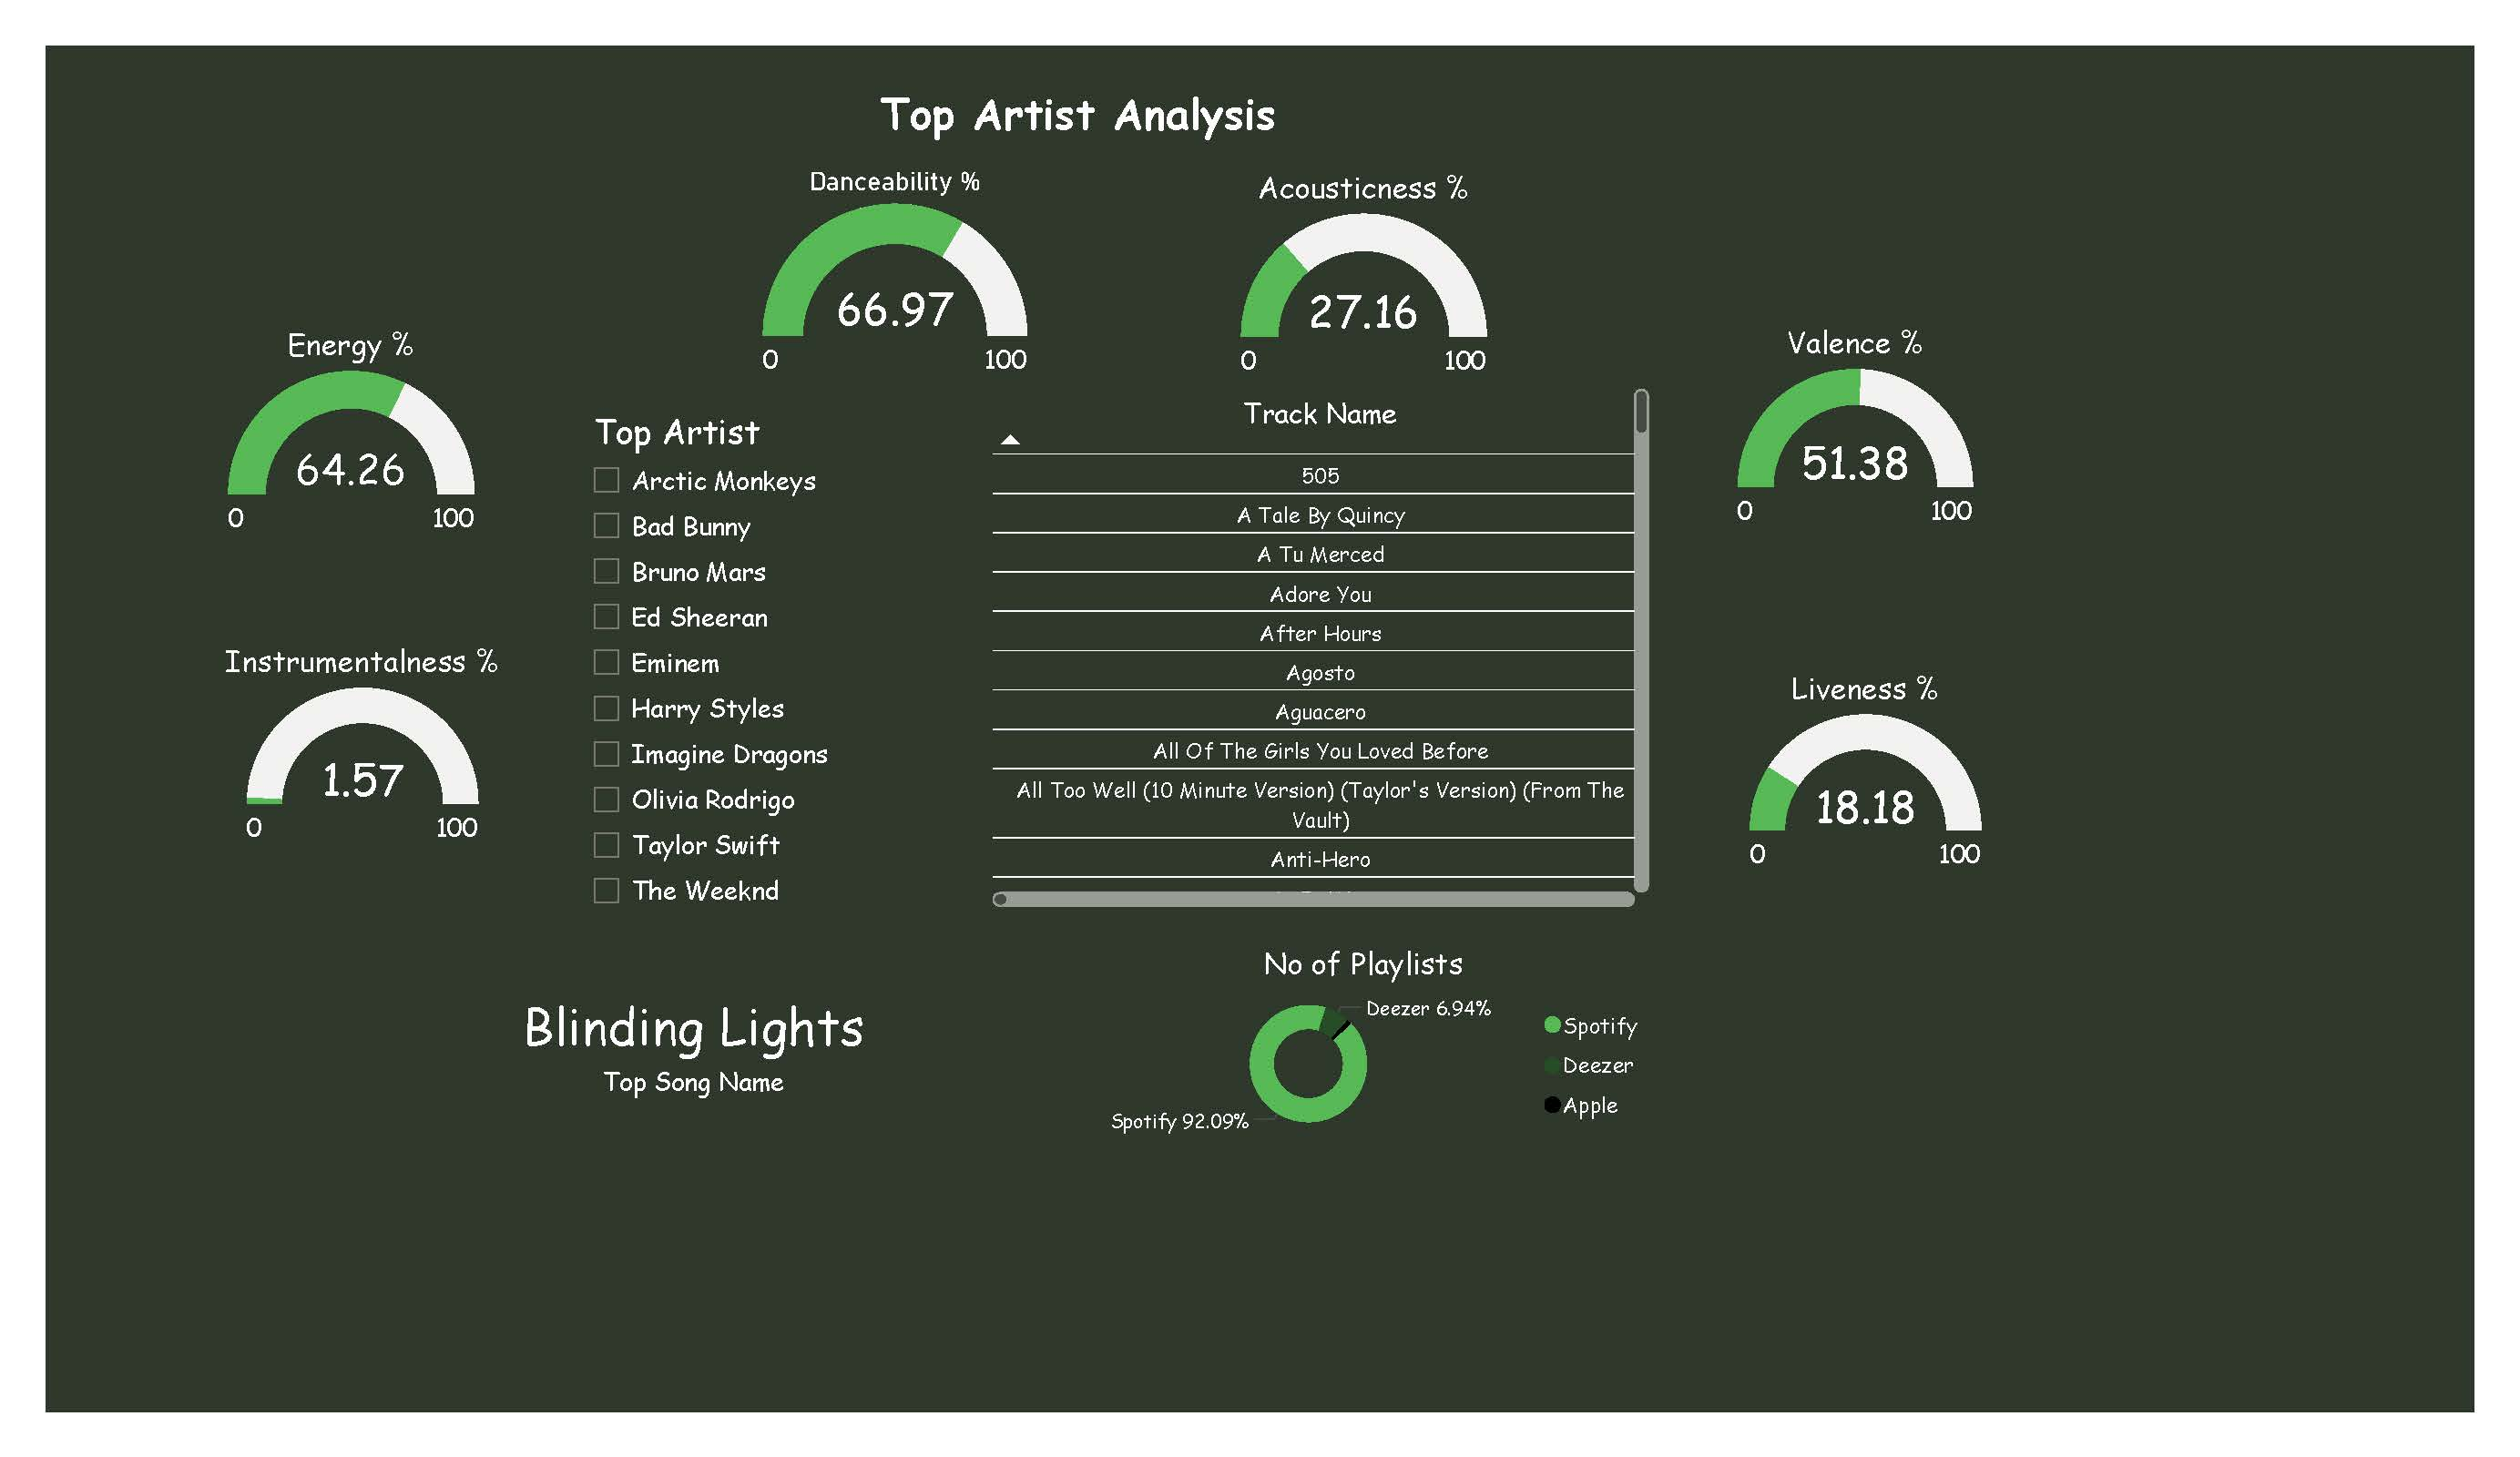

This screenshot's page, from the dashboard's own definition file:
{"tool":"powerbi","page":{"name":"Artist Analysis","canvas":[1280,720],"ordinal":2},"visuals":[{"type":"slicer","fields":{"Values":["Artist.Artist(s) Name"]},"box":[335,224.3,240.3,339.2],"z":0},{"type":"cardVisual","fields":{"Data":["Artist.Top Song Name"]},"box":[195,583.7,434,103],"z":1000},{"type":"pivotTable","title":"Top Songs","fields":{"Rows":["spotify-2023.Track Name"],"Values":["spotify-2023.Total_Streams"]},"box":[597.3,213.3,427.1,339.2],"z":3000},{"type":"textbox","box":[473.8,19.2,365.3,48.1],"z":4000},{"type":"gauge","title":"Energy %","fields":{"Y":["Avg(spotify-2023.Energy)"]},"box":[108.5,175.8,171.7,147],"z":5000},{"type":"gauge","title":"Danceability %","fields":{"Y":["Avg(spotify-2023.Danceability)"]},"box":[451.6,75.9,177.8,147],"z":6000},{"type":"gauge","title":"Acousticness %","fields":{"Y":["Avg(spotify-2023.Acousticness)"]},"box":[755,75.9,165.9,147],"z":7000},{"type":"gauge","title":"Instrumentalness %","fields":{"Y":["Avg(spotify-2023.Instrumentalness)"]},"box":[109,378.1,186.1,142.2],"z":8000},{"type":"gauge","title":"Liveness %","fields":{"Y":["Avg(spotify-2023.Liveness)"]},"box":[1067.9,394.7,179,142.2],"z":9000},{"type":"gauge","title":"Valence %","fields":{"Y":["Avg(spotify-2023.Valence)"]},"box":[1067.9,175.4,165.9,143.4],"z":10000},{"type":"donutChart","title":"No of Playlists","fields":{"Y":["Sum(spotify-2023.Spotify Playlists)","Sum(spotify-2023.Deezer Playlists)","Sum(spotify-2023.Apple Playlists)"]},"box":[649.6,570,377.7,130.5],"z":11000}]}

Visuals, with their boxes on the page's 1280x720 design canvas (x1, y1, x2, y2). These are canvas units, not pixel positions in the 2520x1457 screenshot, which may show the page scaled, cropped or inside an application window:
slicer - Artist.Artist(s) Name: Rect(335, 224, 575, 564)
cardVisual - Artist.Top Song Name: Rect(195, 584, 629, 687)
"Top Songs" pivotTable: Rect(597, 213, 1024, 552)
textbox: Rect(474, 19, 839, 67)
"Energy %" gauge: Rect(108, 176, 280, 323)
"Danceability %" gauge: Rect(452, 76, 629, 223)
"Acousticness %" gauge: Rect(755, 76, 921, 223)
"Instrumentalness %" gauge: Rect(109, 378, 295, 520)
"Liveness %" gauge: Rect(1068, 395, 1247, 537)
"Valence %" gauge: Rect(1068, 175, 1234, 319)
"No of Playlists" donutChart: Rect(650, 570, 1027, 700)
